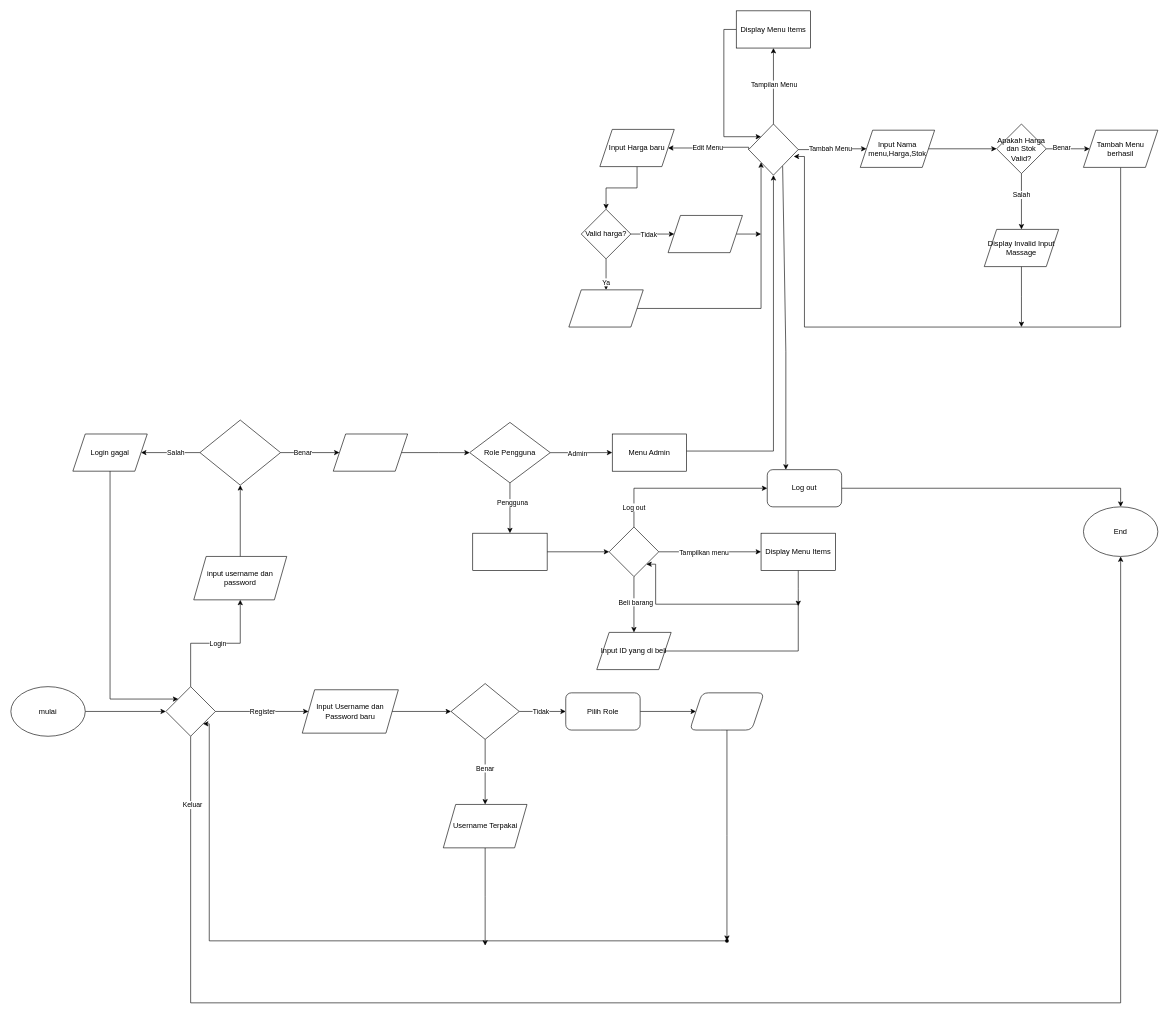
Image size: 1169x1019. Some labels were removed from this diagram. The centre of each missing label's shape, as x and y in pixels:
Login Berhasil: point 370,452
Menu Pengguna: point 509,551
pesan harus angka: point 704,234
pilih menu: point 190,711
Registrasi Berhasil: point 726,711
Tampilan Admin: point 773,149
Tampilan Pengguna: point 634,551
Update Harga Berhasil: point 605,308
username dan password benar?: point 240,452
Username Sudah Ada?: point 484,711
